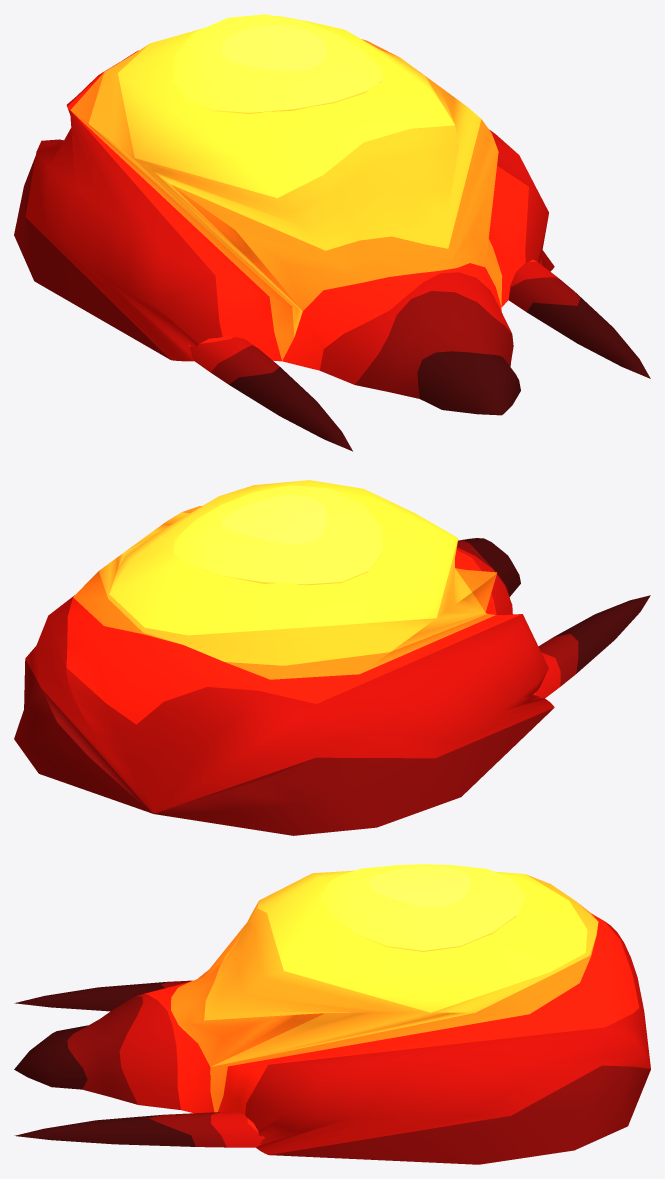
File: shot_megapulse_35.glb
3 views of the same model, one above another, from view 1: azimuth 30°, elevation 25°; view 2: azimuth 150°, elevation 25°; view 3: azimuth 270°, elevation 25° (orthographic). The views are drawn at different scales.
Visible parts, largest first — view 1: shot_megapulse_35_fire, shot_megapulse_35_core, shot_megapulse_35_tongue0, shot_megapulse_35_tongue1; view 2: shot_megapulse_35_fire, shot_megapulse_35_core, shot_megapulse_35_tongue0; view 3: shot_megapulse_35_fire, shot_megapulse_35_core, shot_megapulse_35_tongue1, shot_megapulse_35_tongue0.
Part boxes in pixels (<box>): shot_megapulse_35_fire: <box>14,16,554,415</box>; shot_megapulse_35_core: <box>173,14,382,113</box>; shot_megapulse_35_tongue0: <box>189,336,352,451</box>; shot_megapulse_35_tongue1: <box>508,259,650,378</box>; shot_megapulse_35_fire: <box>14,480,554,835</box>; shot_megapulse_35_core: <box>173,485,382,585</box>; shot_megapulse_35_tongue0: <box>533,595,650,698</box>; shot_megapulse_35_fire: <box>14,870,650,1164</box>; shot_megapulse_35_core: <box>321,864,525,951</box>; shot_megapulse_35_tongue1: <box>14,1111,264,1147</box>; shot_megapulse_35_tongue0: <box>14,980,192,1011</box>.
Size of the model in its own units: 9.9 by 4.58 by 14.
